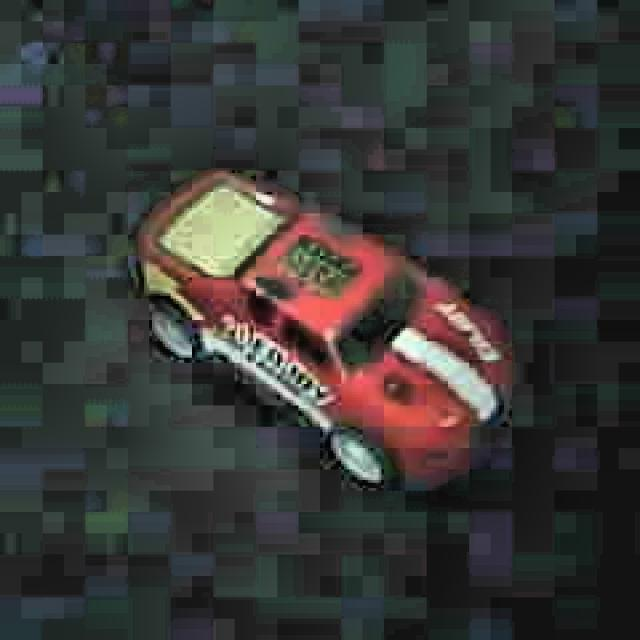car: (139, 163, 516, 503)
